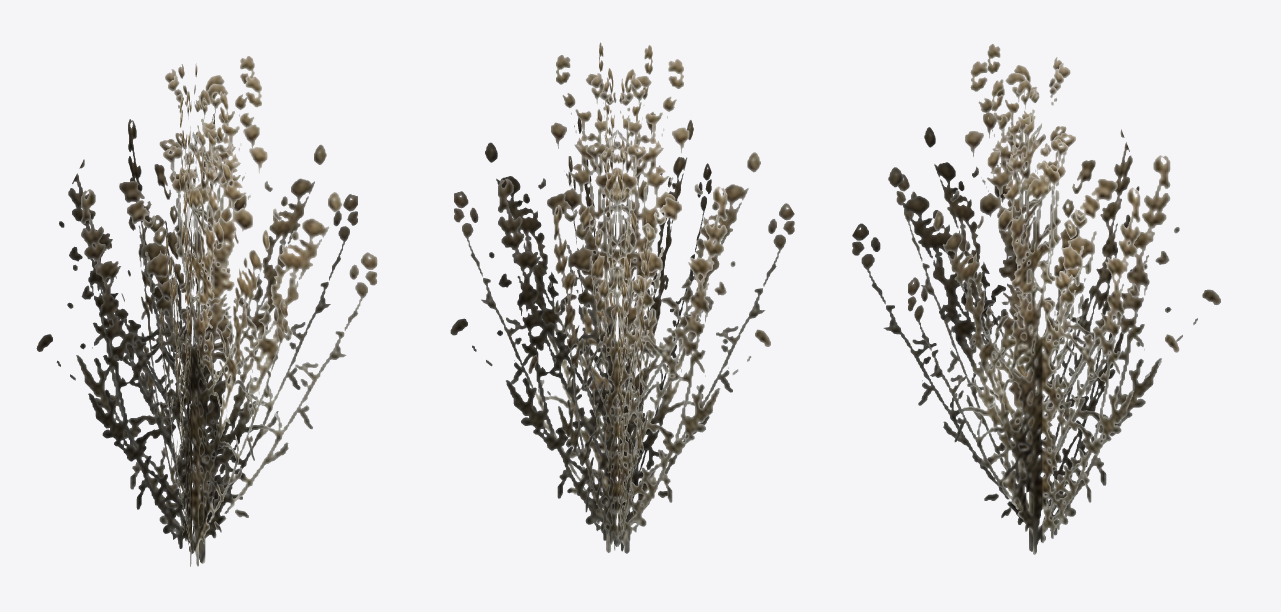
The model's file is SM_Generic_Plant_07.fbx.
3 views of the same model, side by side, from view 1: azimuth 30°, elevation 25°; view 2: azimuth 150°, elevation 25°; view 3: azimuth 270°, elevation 25° (orthographic).
Parts seen in each view (by area): view 1: SM_Generic_Plant_07_LOD0; view 2: SM_Generic_Plant_07_LOD0; view 3: SM_Generic_Plant_07_LOD0.
Boxes of the visible parts, box(x1,y1,x2,y2) form: SM_Generic_Plant_07_LOD0: box(36, 56, 377, 566); SM_Generic_Plant_07_LOD0: box(450, 42, 794, 553); SM_Generic_Plant_07_LOD0: box(852, 44, 1220, 554).
Size of what is drawn, in the model's own units: 0.4455 by 0.6008 by 0.4455.
